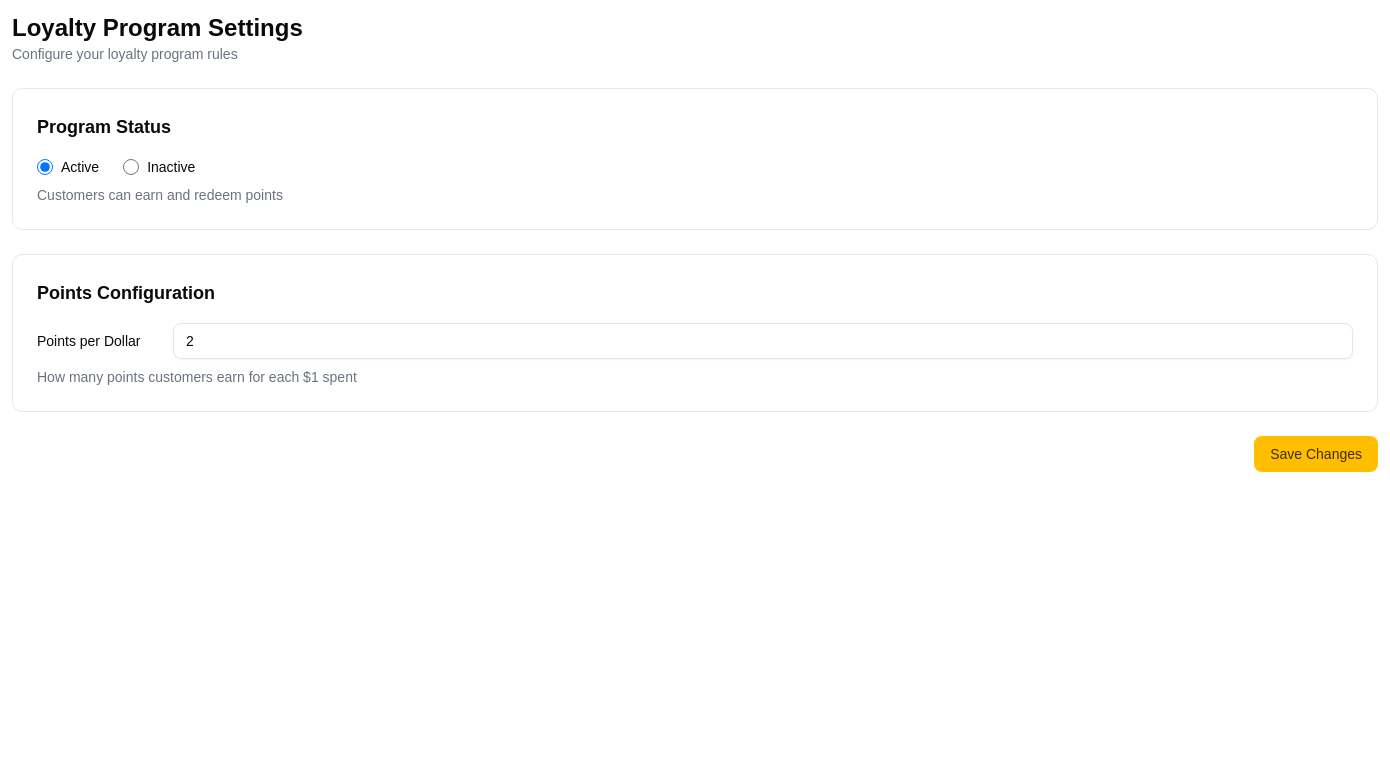
Test: LoyaltyRulesClient › Validation › should show error for invalid points value
Replace the text in the number field labelled "Points per Dollar" with "-1": (763, 341) [173,323,1353,359]
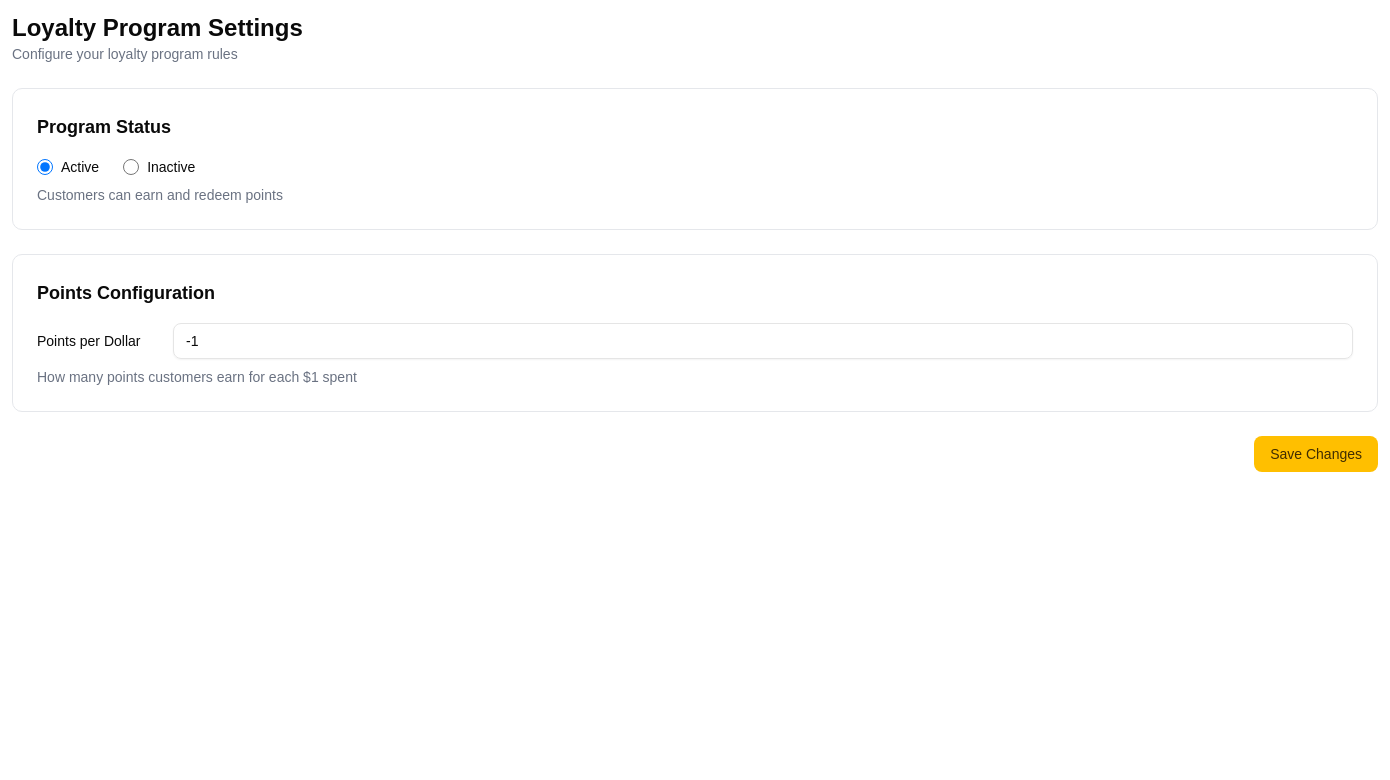
Click the button "Save Changes": (1316, 454) [1254,436,1378,472]
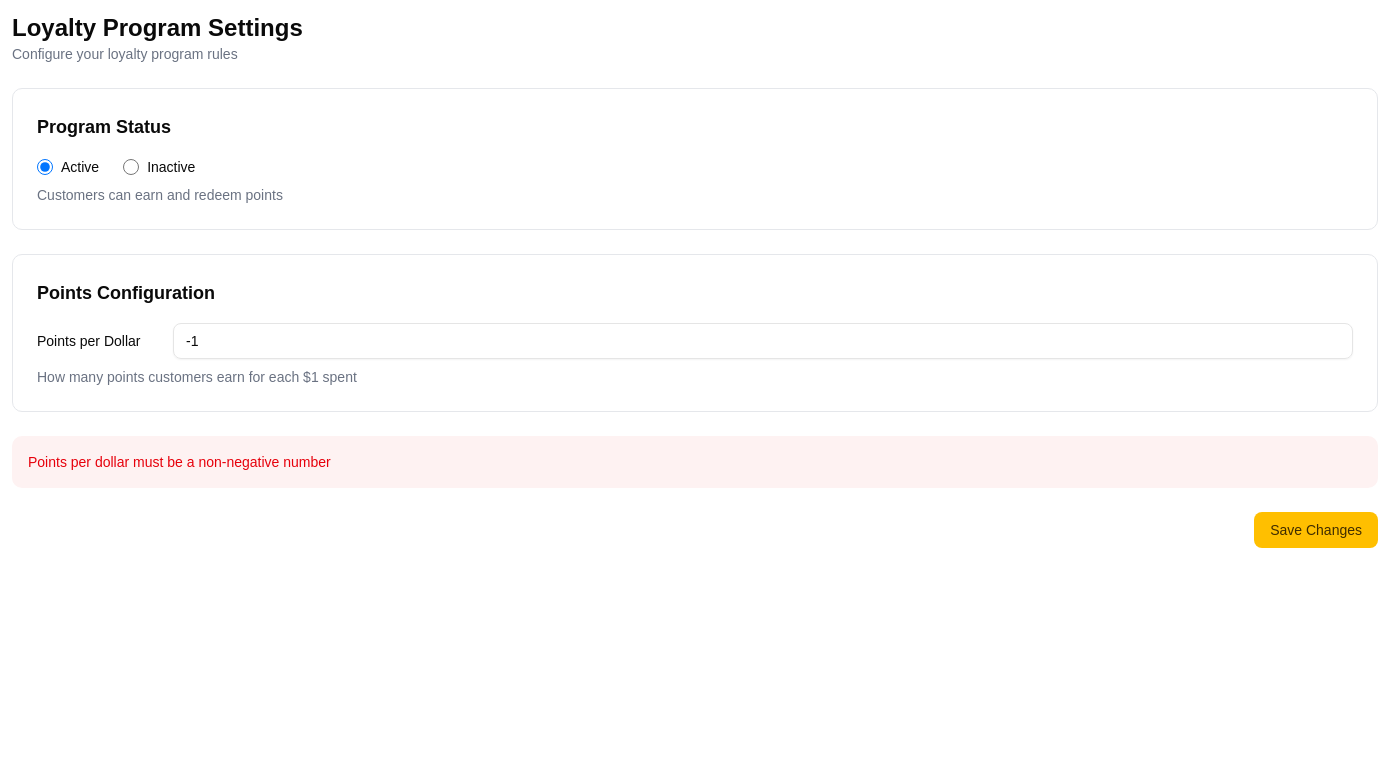
Now the text "Points per dollar must be a non-negative number" is shown, box [12,436,1378,488]
